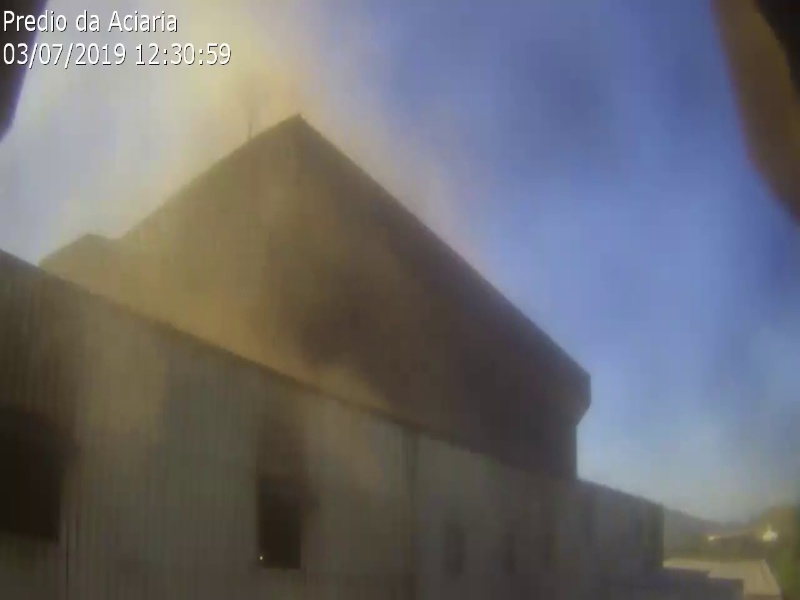Pessimo: (190, 13, 269, 131), (255, 1, 334, 118), (103, 251, 218, 300), (161, 274, 276, 323), (202, 304, 317, 353), (179, 215, 294, 264), (252, 232, 367, 281), (233, 193, 348, 242), (212, 156, 327, 205), (147, 222, 197, 257), (66, 247, 116, 282), (98, 339, 148, 374)
